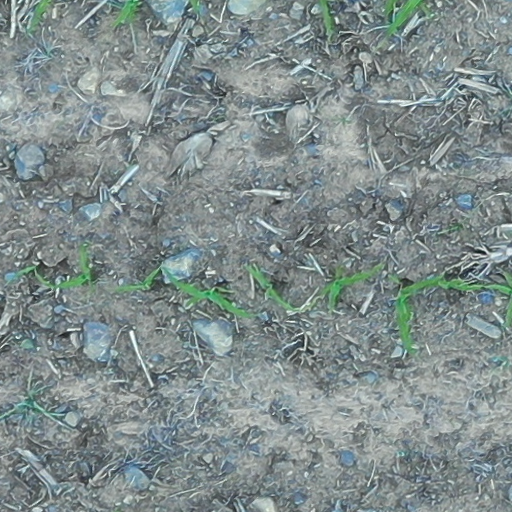planta: (165, 270, 249, 317), (395, 275, 444, 352), (319, 264, 382, 309), (247, 265, 289, 308), (52, 246, 90, 289), (115, 269, 159, 292), (425, 279, 483, 290)
